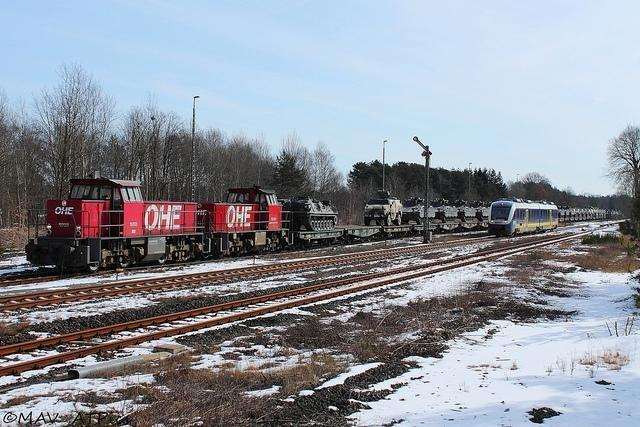truck: (363, 190, 402, 226)
